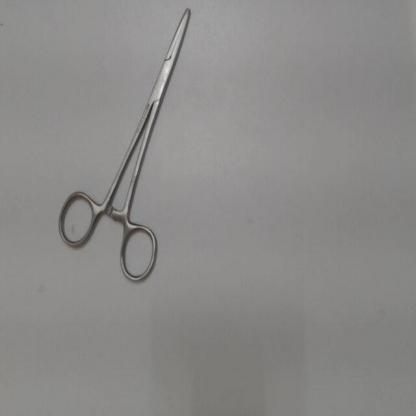Mayo Needle Holder: (49, 1, 199, 293)
